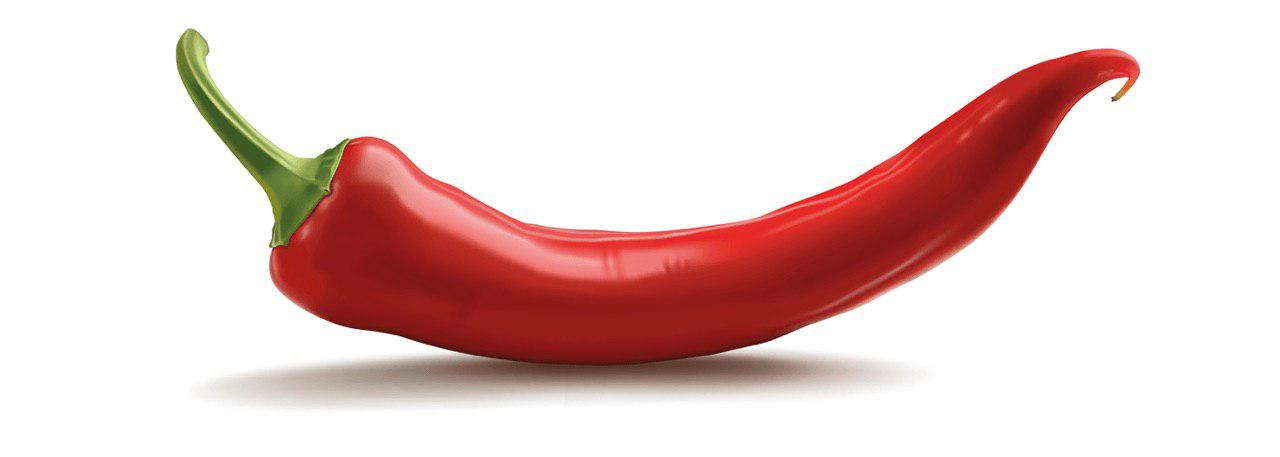lada merah: (252, 36, 1156, 379)
